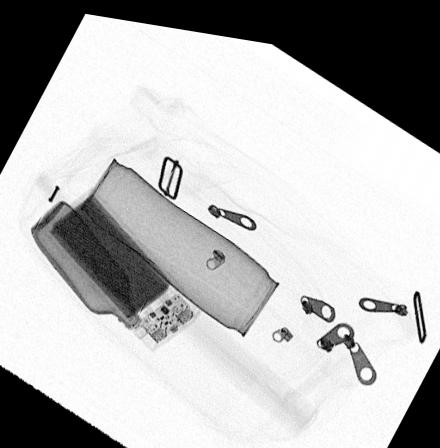Powerbank: (42, 186, 202, 348)
